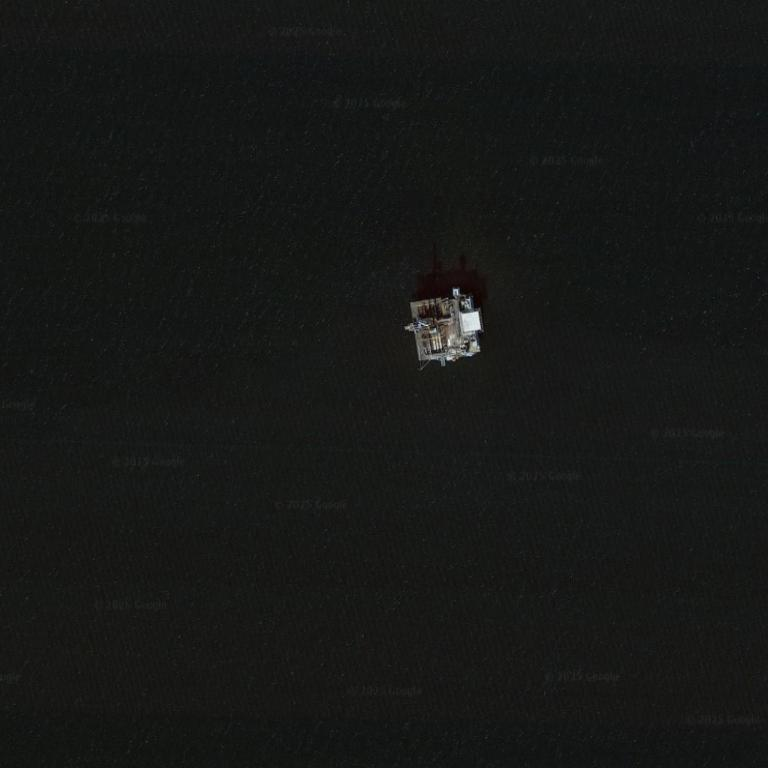platform: (405, 288, 489, 366)
